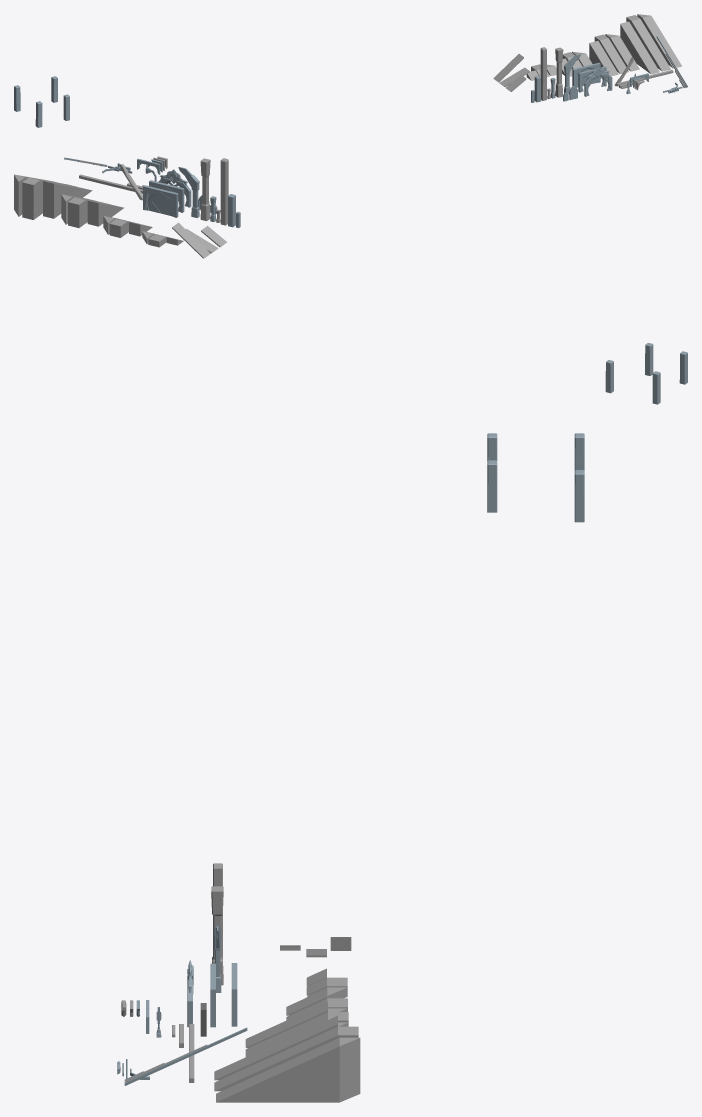
The model's file is Canal_Decor.fbx.
3 renders of one model, top to bottom at view 1: azimuth 30°, elevation 25°; view 2: azimuth 150°, elevation 25°; view 3: azimuth 270°, elevation 25°, orthographic. The views are drawn at different scales.
Visible parts, largest first — view 1: Ramp_XL, Ramp_XL_Platform, Ramp_XL_DiagPlatform, Ramp_Large, Ramp_Large_Platform, Ramp_Large_DiagPlatform, Column_Large, Pillar_Large, Gate, Ramp_High_Steep, Column_Arch, Gateway (+2 smaller); view 2: Ramp_XL, Ramp_XL_Platform, Ramp_Large, Ramp_Large_Platform, Pillar_Large, Column_Large, Gateway, Column_Arch, ActualGate, Ramp_High_Steep, Ramp_XL_DiagPlatform; view 3: Ramp_XL_DiagPlatform, Ramp_XL_Platform, Ramp_XL.
Part boxes in pixels (x1=…): Ramp_XL: x1=620, y1=21, x2=659, y2=74; Ramp_XL_Platform: x1=626, y1=15, x2=670, y2=71; Ramp_XL_DiagPlatform: x1=637, y1=14, x2=681, y2=68; Ramp_Large: x1=589, y1=41, x2=618, y2=76; Ramp_Large_Platform: x1=594, y1=34, x2=628, y2=73; Ramp_Large_DiagPlatform: x1=605, y1=34, x2=639, y2=71; Column_Large: x1=555, y1=47, x2=563, y2=97; Pillar_Large: x1=540, y1=47, x2=546, y2=100; Gate: x1=584, y1=66, x2=612, y2=96; Ramp_High_Steep: x1=493, y1=54, x2=523, y2=82; Column_Arch: x1=564, y1=54, x2=580, y2=94; Gateway: x1=572, y1=62, x2=600, y2=87; Ramp_XL: x1=43, y1=181, x2=92, y2=218; Ramp_XL_Platform: x1=22, y1=177, x2=77, y2=219; Ramp_Large: x1=87, y1=200, x2=123, y2=226; Ramp_Large_Platform: x1=68, y1=197, x2=110, y2=227; Pillar_Large: x1=220, y1=158, x2=228, y2=225; Column_Large: x1=200, y1=158, x2=210, y2=220; Gateway: x1=143, y1=185, x2=178, y2=217; Column_Arch: x1=178, y1=167, x2=199, y2=218; ActualGate: x1=147, y1=193, x2=173, y2=215; Ramp_High_Steep: x1=172, y1=222, x2=210, y2=258; Ramp_XL_DiagPlatform: x1=14, y1=174, x2=57, y2=216; Ramp_XL_DiagPlatform: x1=216, y1=1037, x2=360, y2=1102; Ramp_XL_Platform: x1=214, y1=1026, x2=358, y2=1091; Ramp_XL: x1=214, y1=1015, x2=337, y2=1080.
Size of the model in its own units: 258 by 22.9 by 90.48.
